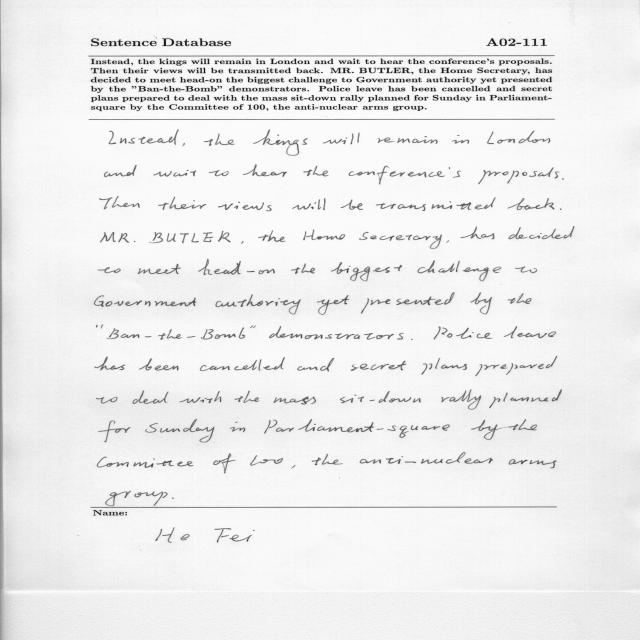word: (264, 419, 450, 438), (348, 166, 461, 185), (361, 293, 455, 314), (269, 326, 404, 340), (418, 261, 502, 282), (215, 295, 301, 315), (376, 197, 496, 211), (145, 419, 214, 443), (475, 356, 557, 376), (360, 452, 493, 464), (106, 328, 236, 340), (253, 130, 308, 156), (359, 232, 442, 249), (478, 168, 560, 185), (489, 390, 562, 409), (331, 262, 402, 281), (198, 259, 275, 275), (95, 295, 197, 307), (200, 357, 285, 371), (109, 129, 179, 145), (98, 457, 194, 468), (149, 231, 231, 243), (340, 391, 421, 403), (471, 420, 518, 440), (106, 491, 168, 506), (509, 227, 575, 240), (487, 131, 551, 144), (441, 390, 481, 410), (421, 358, 467, 375), (434, 327, 492, 340), (99, 421, 131, 442), (317, 295, 349, 315), (158, 197, 207, 210), (504, 326, 556, 338), (508, 198, 555, 210), (351, 361, 406, 371), (243, 165, 287, 177), (100, 196, 140, 209), (139, 358, 178, 371), (133, 390, 169, 404), (180, 391, 222, 403), (297, 358, 334, 371), (378, 136, 438, 144), (218, 202, 271, 211), (303, 230, 345, 241), (470, 293, 492, 314), (213, 454, 236, 474), (323, 133, 360, 145), (461, 227, 495, 240), (508, 459, 557, 468), (138, 264, 181, 274), (95, 357, 125, 371), (292, 199, 326, 211), (101, 232, 136, 243), (105, 165, 137, 177), (204, 134, 235, 146), (250, 455, 283, 466), (273, 397, 316, 405), (312, 454, 343, 465), (258, 230, 286, 242), (153, 170, 196, 177), (235, 391, 260, 403), (291, 263, 315, 274), (508, 293, 532, 304), (303, 166, 328, 176), (239, 325, 256, 339), (341, 200, 363, 210), (518, 420, 537, 431), (516, 267, 538, 274), (452, 135, 469, 144), (230, 422, 245, 432), (97, 397, 118, 404), (99, 267, 121, 273), (209, 170, 229, 176), (96, 325, 103, 329), (291, 465, 296, 469), (182, 143, 185, 146), (241, 241, 244, 244), (446, 240, 449, 243), (562, 178, 564, 180), (560, 208, 562, 210), (411, 339, 413, 340), (172, 498, 174, 499)
